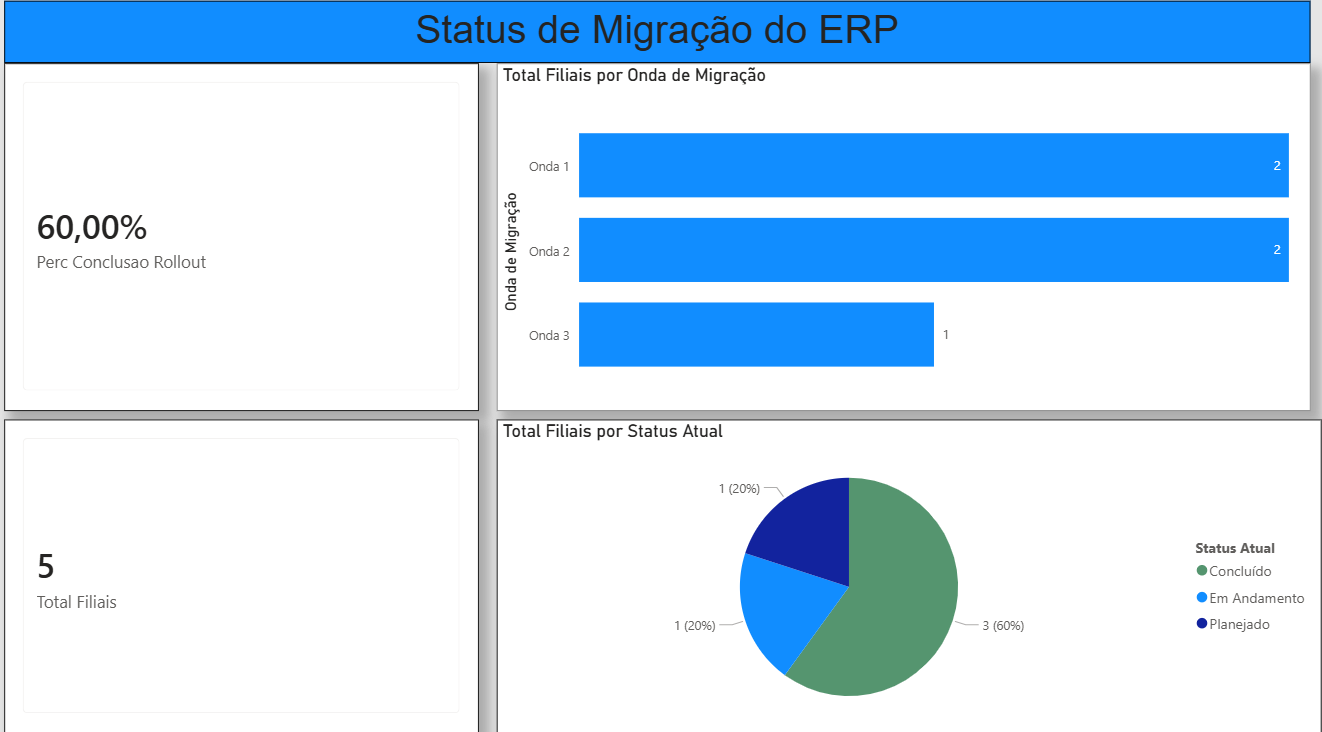

The dashboard page shown, as its layout file describes it:
{"tool":"powerbi","page":{"name":"Página 1","canvas":[1280,720],"ordinal":0},"visuals":[{"type":"cardVisual","fields":{"Data":["Planilha1.Perc Conclusao Rollout"]},"box":[25,82.1,452.4,331],"z":0},{"type":"cardVisual","fields":{"Data":["Planilha1.Total Filiais"]},"box":[25,421.4,452.4,298.8],"z":1000},{"type":"barChart","fields":{"Category":["Planilha1.Onda de Migração"],"Y":["Planilha1.Total Filiais"]},"box":[494.1,82.1,775,331],"z":2000},{"type":"pieChart","fields":{"Category":["Planilha1.Status Atual"],"Y":["Planilha1.Total Filiais"]},"box":[494.1,421.4,785.7,298.8],"z":3000},{"type":"textbox","box":[25.3,22.9,1243.8,59.1],"z":4000}]}

Visuals, with their boxes in screenshot pixels (x1, y1, x2, y2), scaled from the page's 1280x720 canvas onto the 1322x732 screenshot:
cardVisual - Planilha1.Perc Conclusao Rollout: {"x1": 26, "y1": 83, "x2": 493, "y2": 420}
cardVisual - Planilha1.Total Filiais: {"x1": 26, "y1": 428, "x2": 493, "y2": 731}
barChart - Planilha1.Onda de Migração x Planilha1.Total Filiais: {"x1": 510, "y1": 83, "x2": 1311, "y2": 420}
pieChart - Planilha1.Status Atual x Planilha1.Total Filiais: {"x1": 510, "y1": 428, "x2": 1321, "y2": 731}
textbox: {"x1": 26, "y1": 23, "x2": 1311, "y2": 83}
